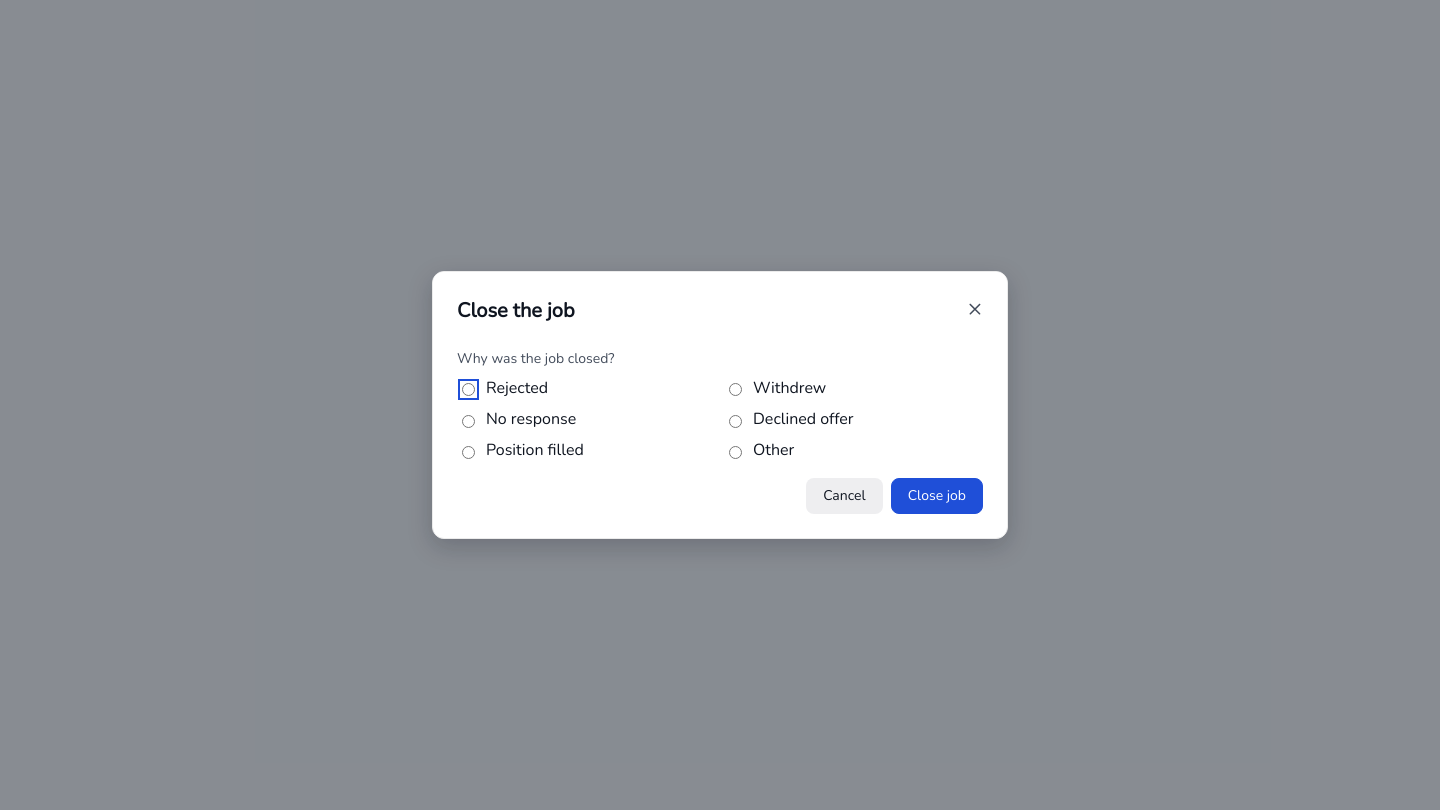
Scenario: ClosingReasonDialog › needs a reason to be chosen
This screenshot has width=1440, height=810.
Click the button "Close job" at (937, 496), box [891,478,983,514]
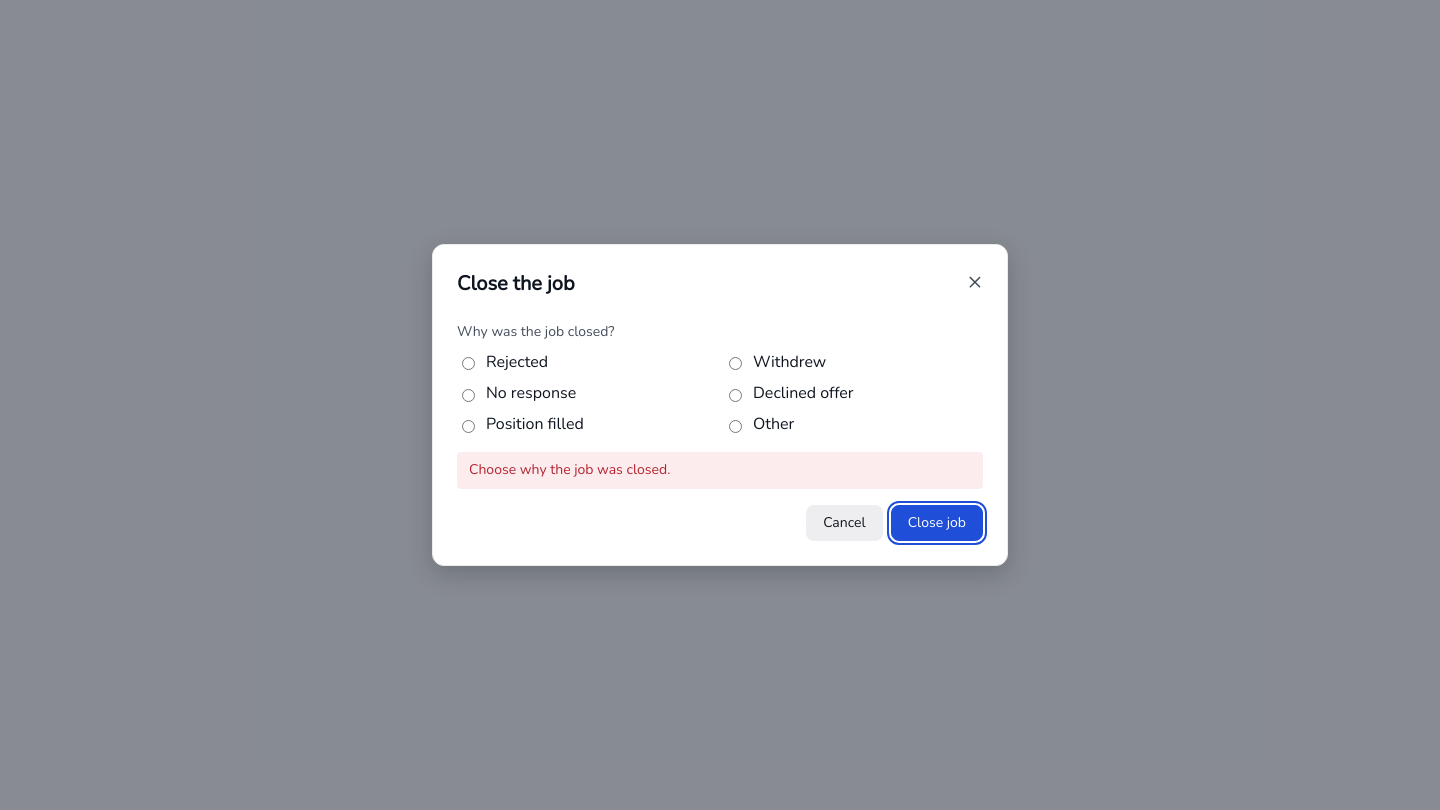
expect the message reads "Choose why the job was closed.": met, box [469,460,670,479]
